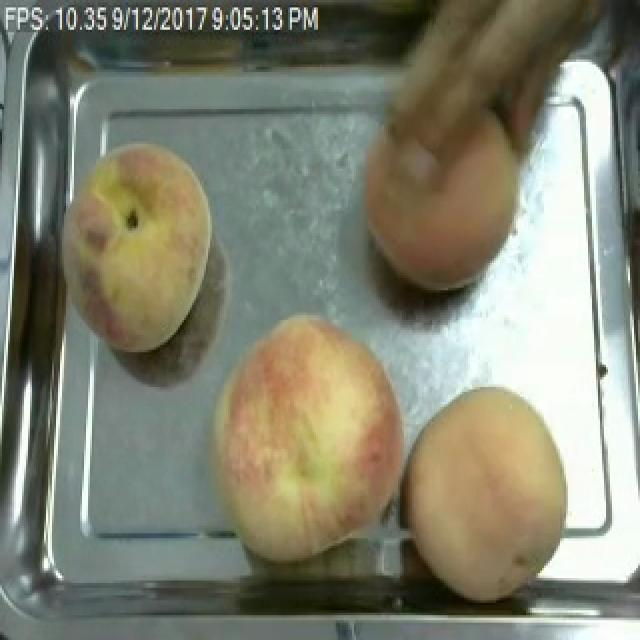Fruit: (196, 305, 420, 568), (350, 5, 542, 300), (392, 377, 578, 613), (42, 132, 224, 362)
